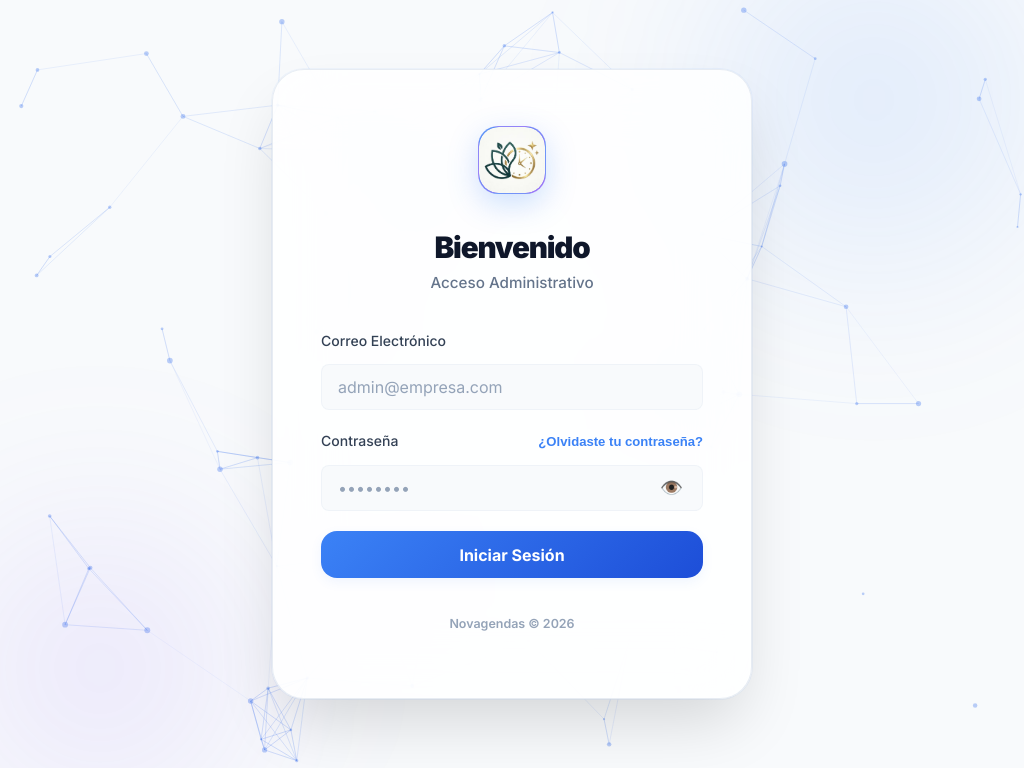
Test: Login Component › shows error if password is empty
Type "test@test.com" into the field with placeholder "admin@empresa.com" at [512, 387], box 321,364 -> 703,410
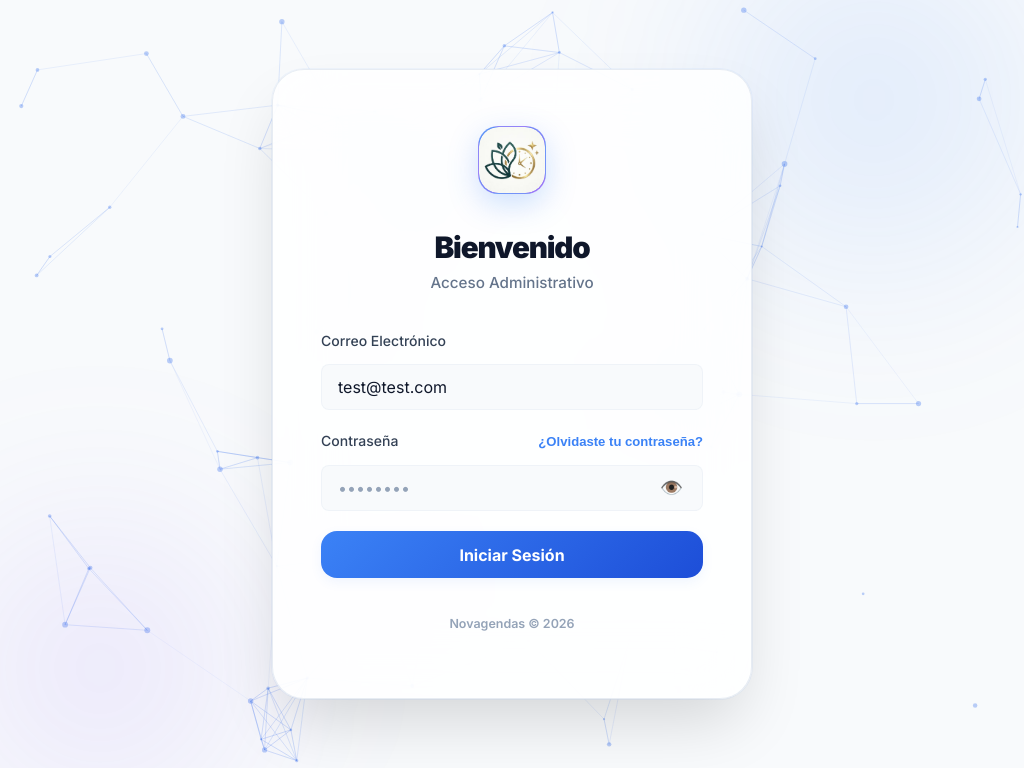
Click the button "Iniciar Sesión" at [512, 555], box 321,531 -> 703,578
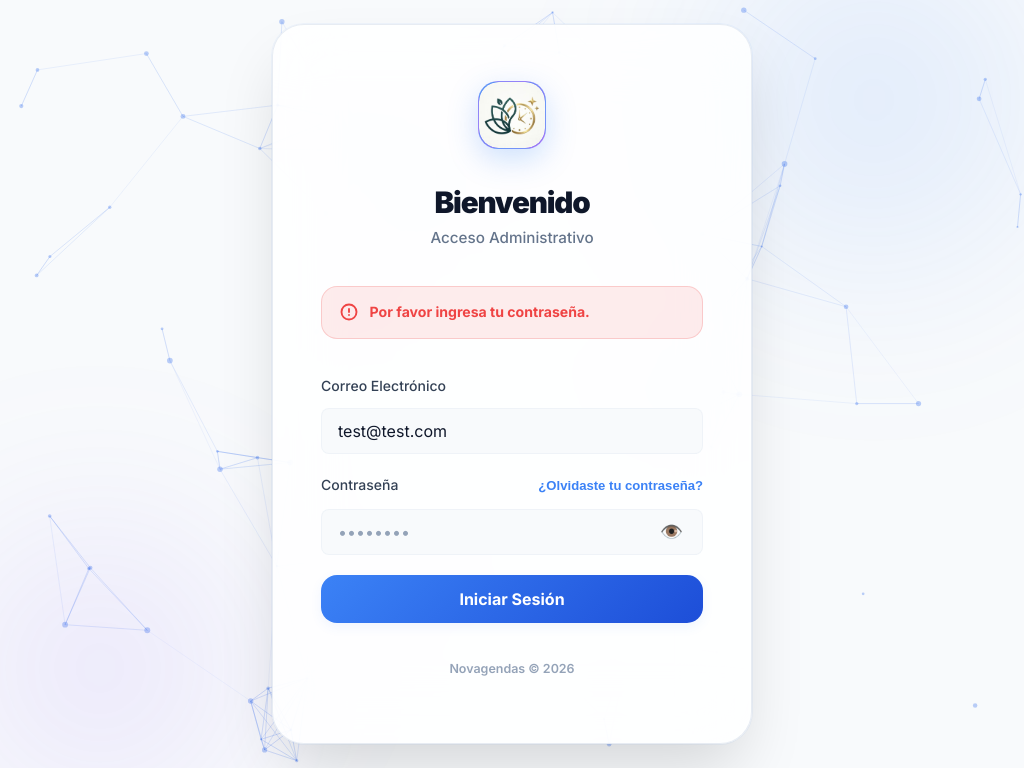
Expected: the text "Por favor ingresa tu contraseña." is shown, 370,301 -> 590,324
